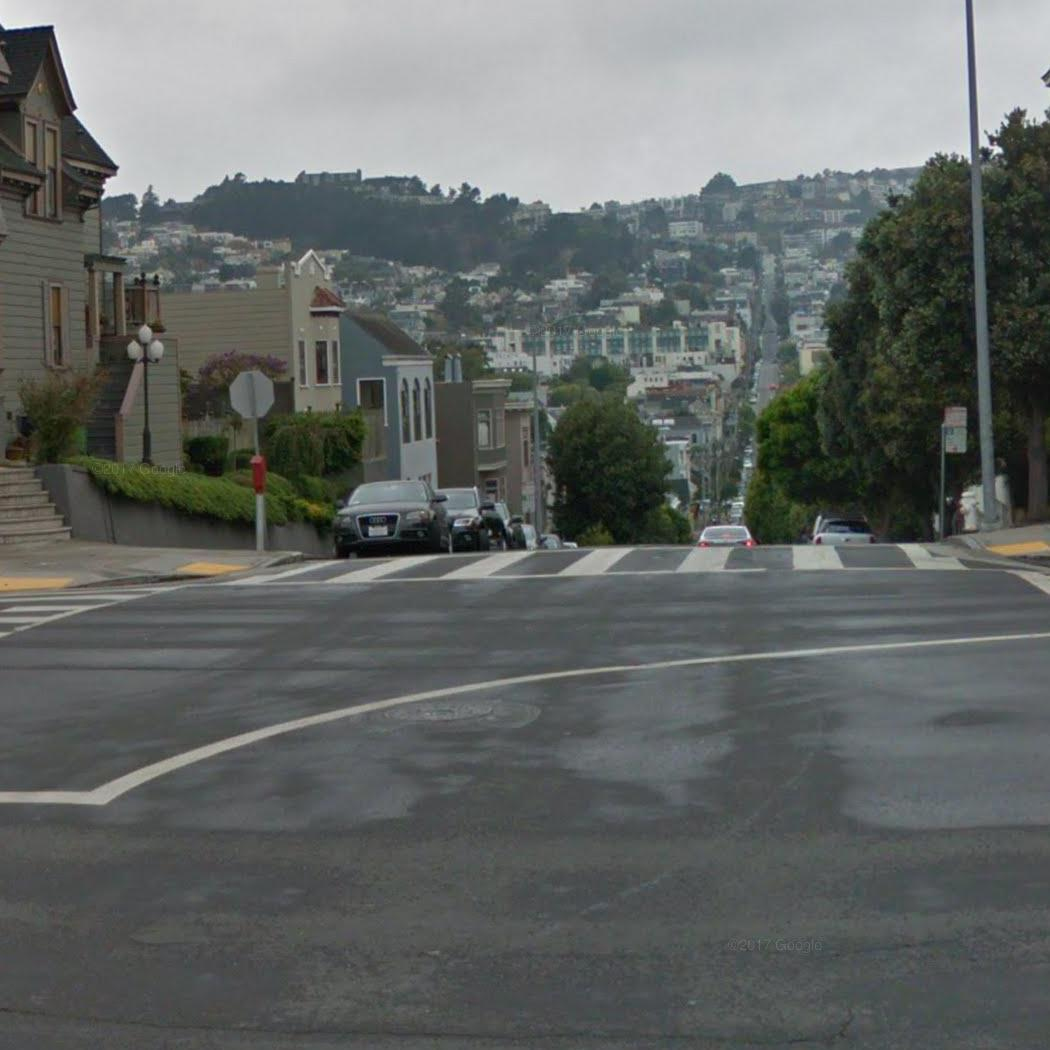2 Hour Parking: (943, 427, 969, 456)
No Parking: (944, 405, 968, 428)
